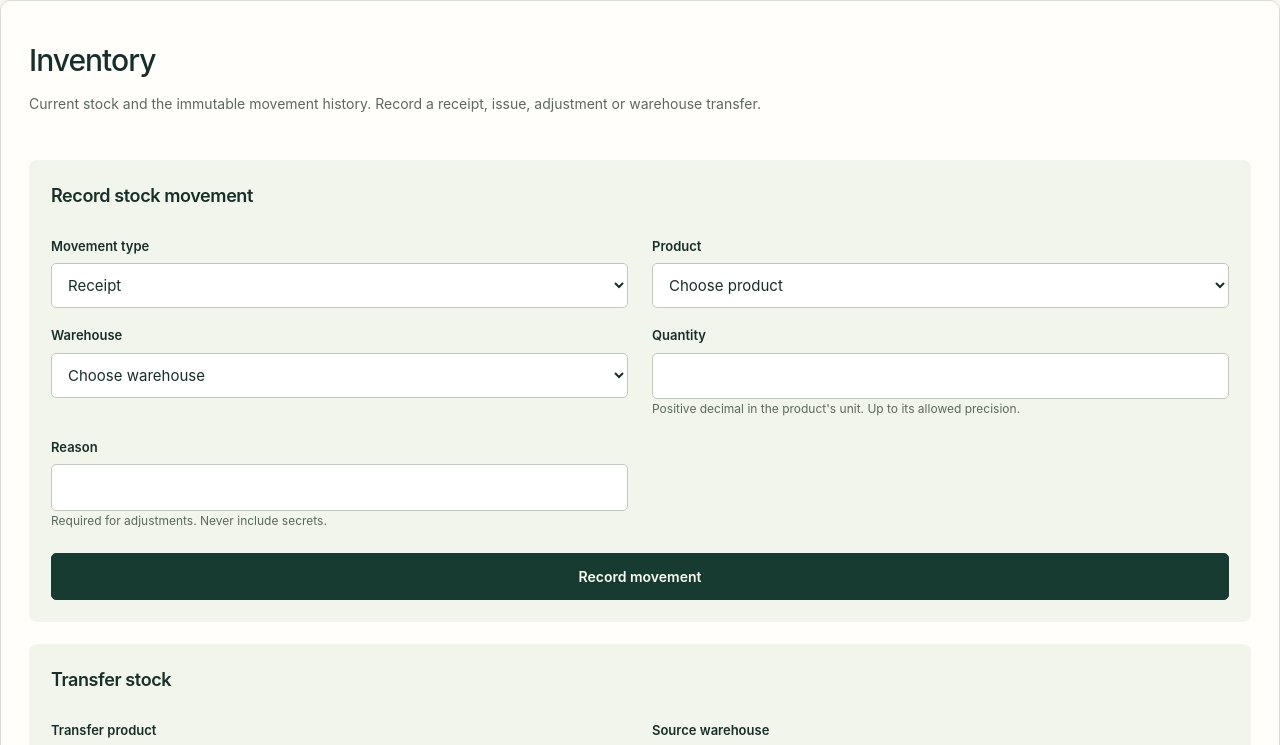
Test case: reuses the idempotency key after an ambiguous network failure
Select "RICE · Rice (KG)" in the dropdown labelled "Product" at (940, 286), box [652,263,1229,308]
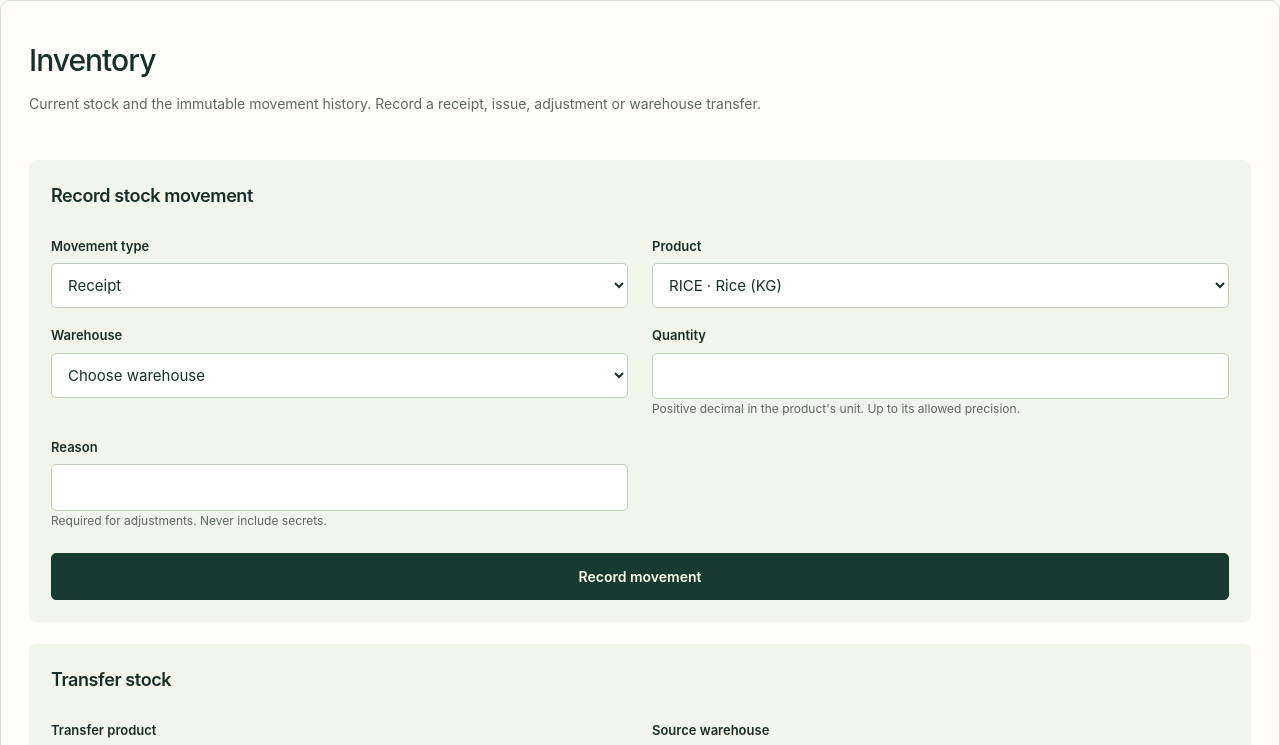
Select "MAIN · Main" in the dropdown labelled "Warehouse" at (340, 375), box [51,353,628,398]
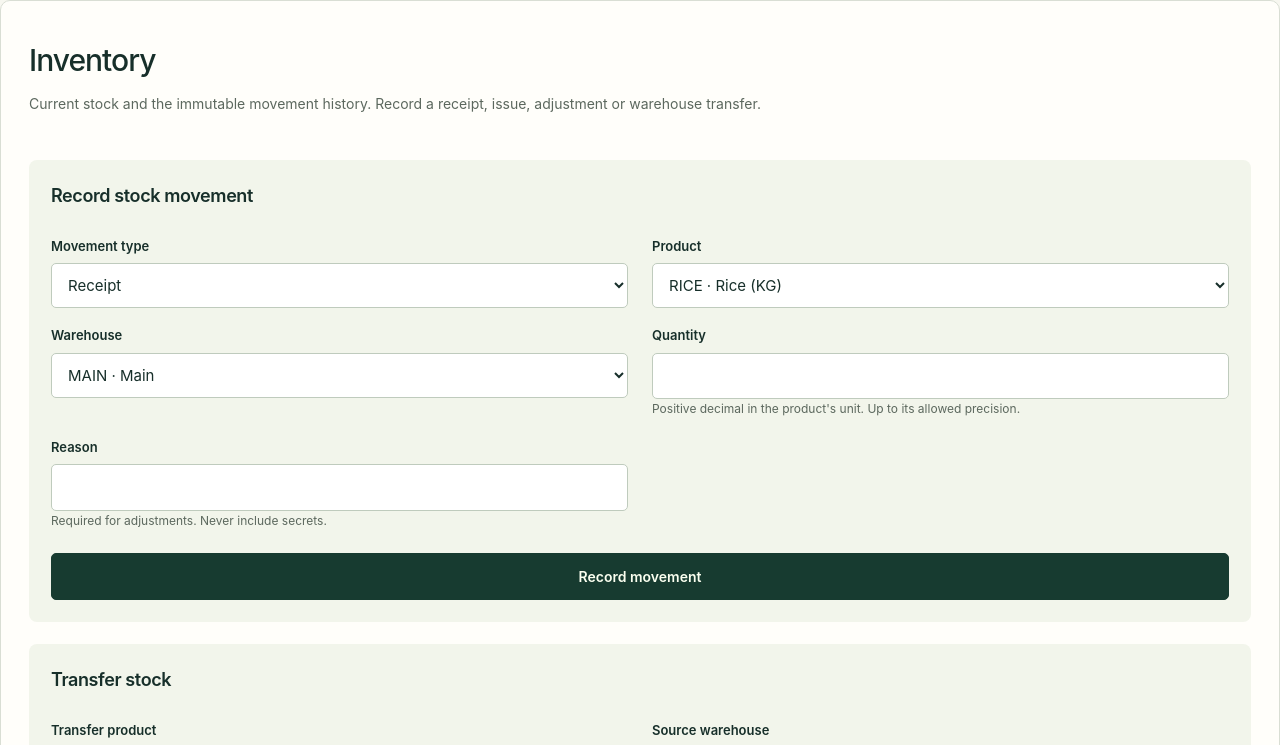
Type "1.250" into the field labelled "Quantity" at (940, 376), box [652,353,1229,399]
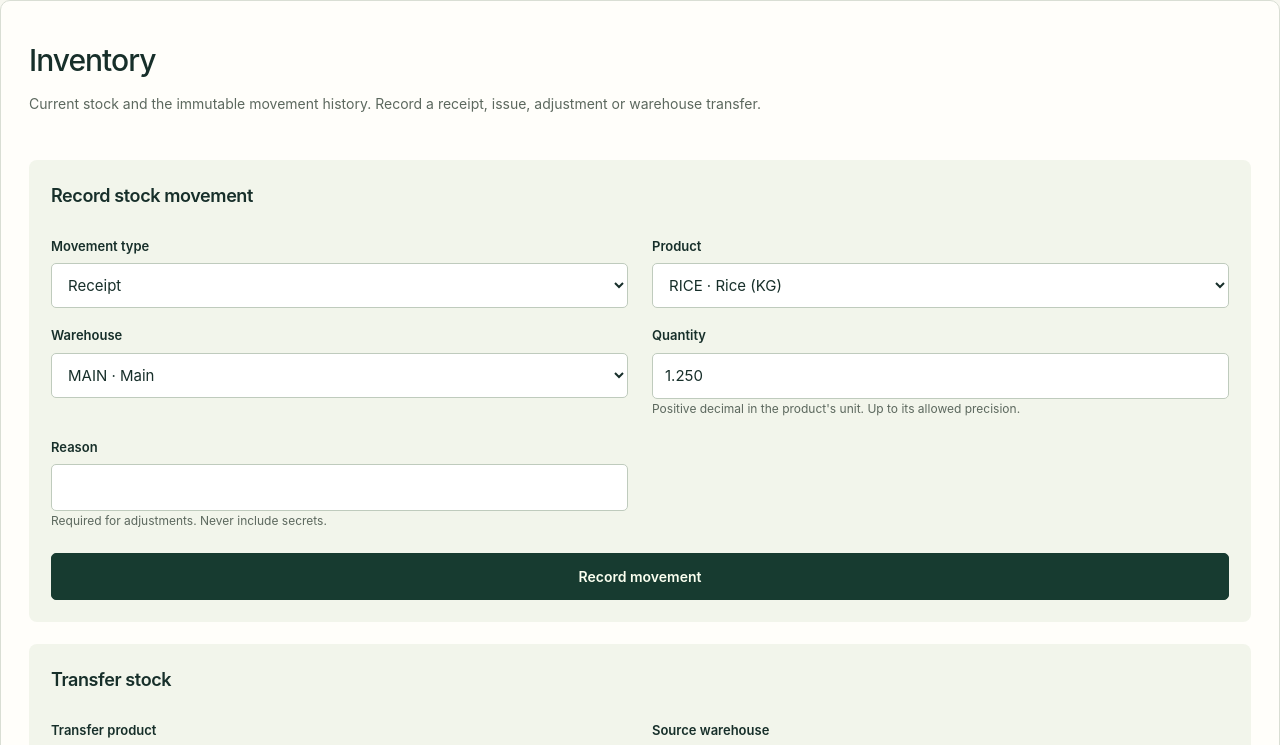
Submit the form "Record stock movement", box [29,160,1251,622]
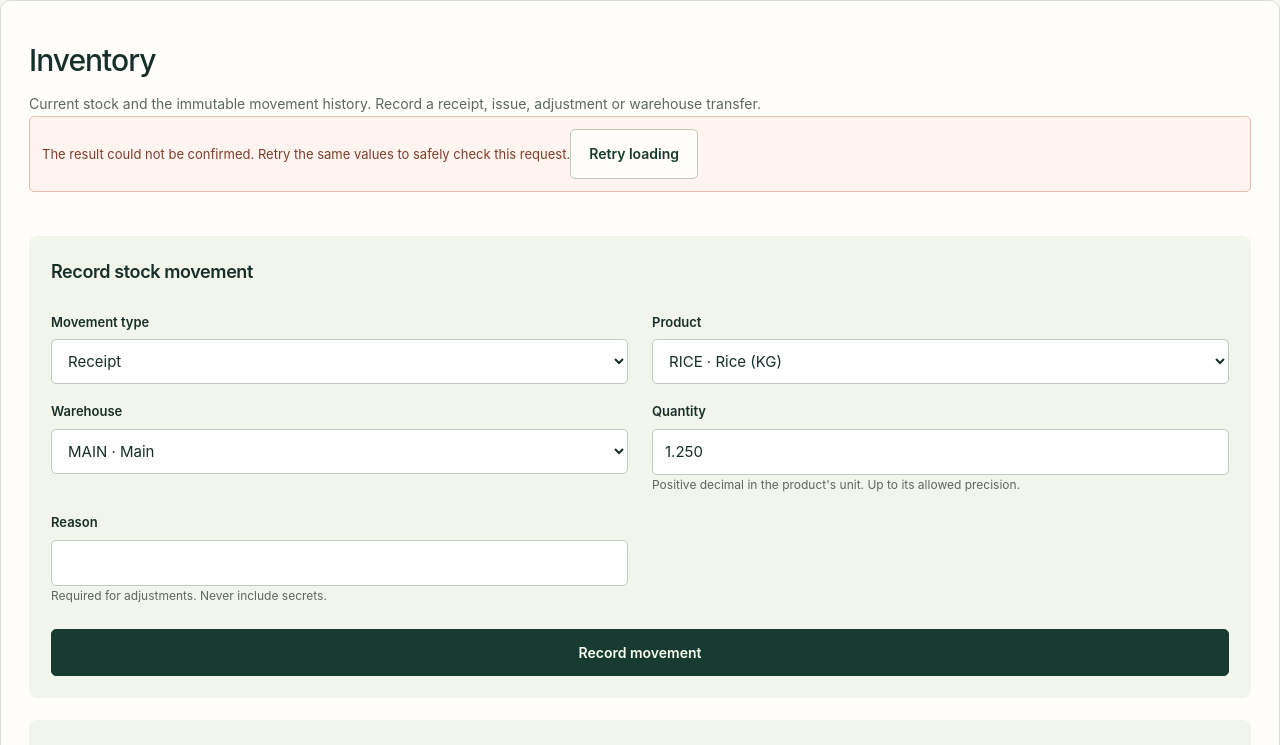
Now the message shows "Retry the same values", box [42,146,570,162]
Submit the form "Record stock movement", box [29,236,1251,698]
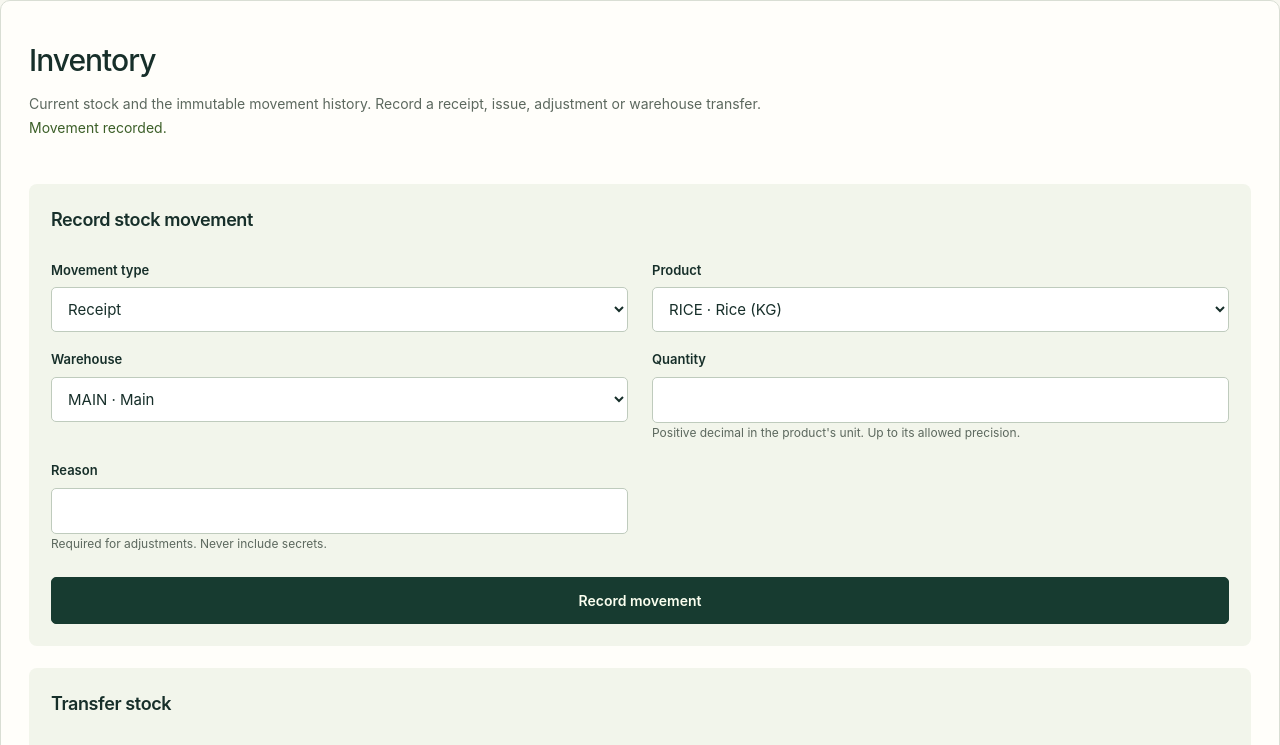
Now the text "Movement recorded." is shown, box [29,119,167,136]
